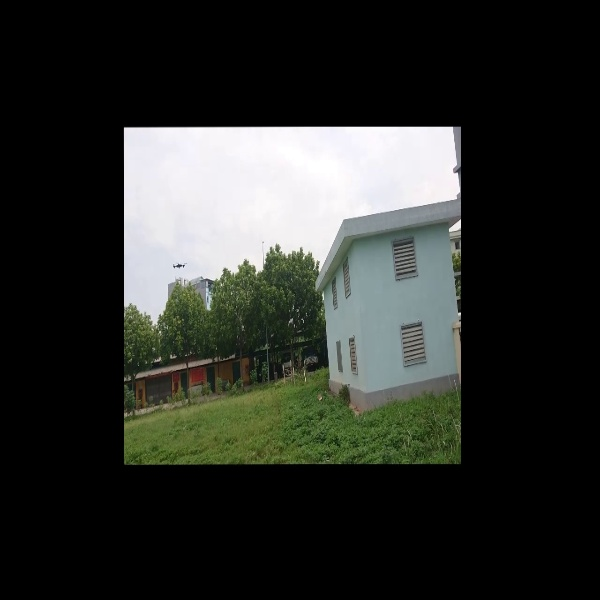drone: (168, 255, 187, 273)
